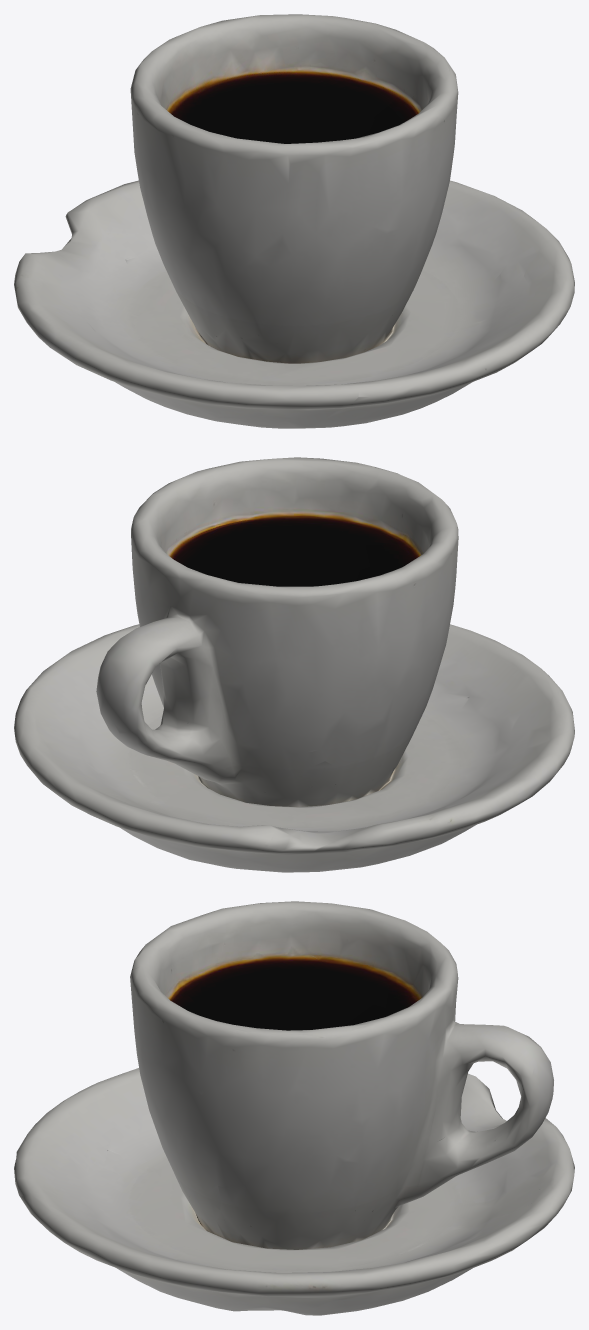
File: cafe.glb
3 views of the same model, one above another, from view 1: azimuth 30°, elevation 25°; view 2: azimuth 150°, elevation 25°; view 3: azimuth 270°, elevation 25° (orthographic).
Visible parts, largest first — view 1: tripo_node_7024a480-50fe-49f1-9a4d-c52938297aa5; view 2: tripo_node_7024a480-50fe-49f1-9a4d-c52938297aa5; view 3: tripo_node_7024a480-50fe-49f1-9a4d-c52938297aa5.
Boxes of the visible parts, x1,y1,x2,y2 form: tripo_node_7024a480-50fe-49f1-9a4d-c52938297aa5: (14, 14, 574, 428); tripo_node_7024a480-50fe-49f1-9a4d-c52938297aa5: (14, 457, 574, 872); tripo_node_7024a480-50fe-49f1-9a4d-c52938297aa5: (14, 901, 574, 1315).
Bounding box in the file's own units: 0.2237 × 0.12 × 0.2239.
1 material, 1 textured.
